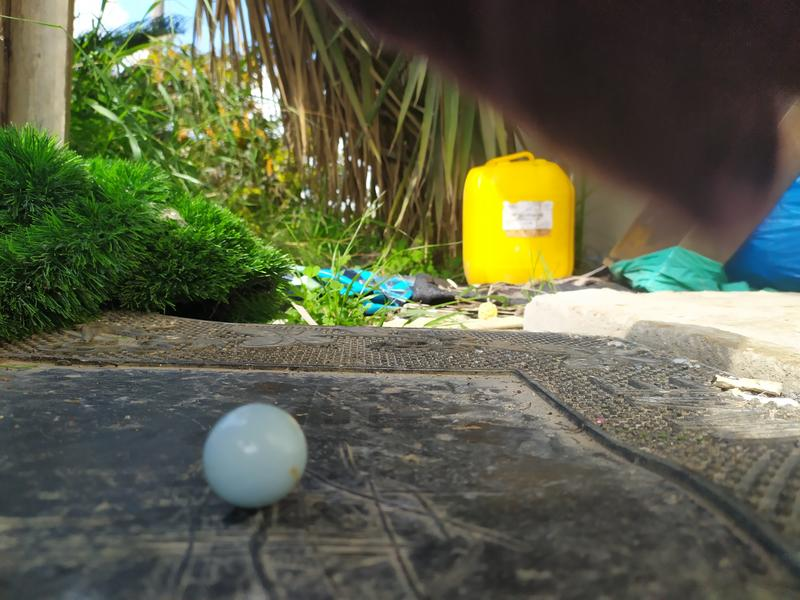Warning: (199, 400, 314, 513)
